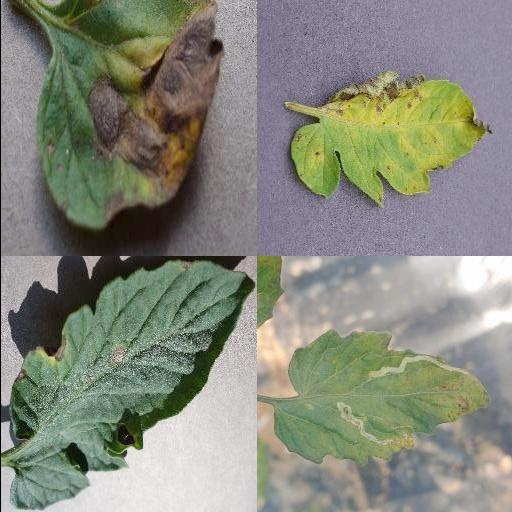Early Blight: (7, 262, 249, 512), (34, 1, 224, 231)
Leaf Miner: (271, 326, 489, 468)
Septoria: (290, 71, 492, 210)
